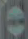No overtake: (1, 3, 27, 36)
